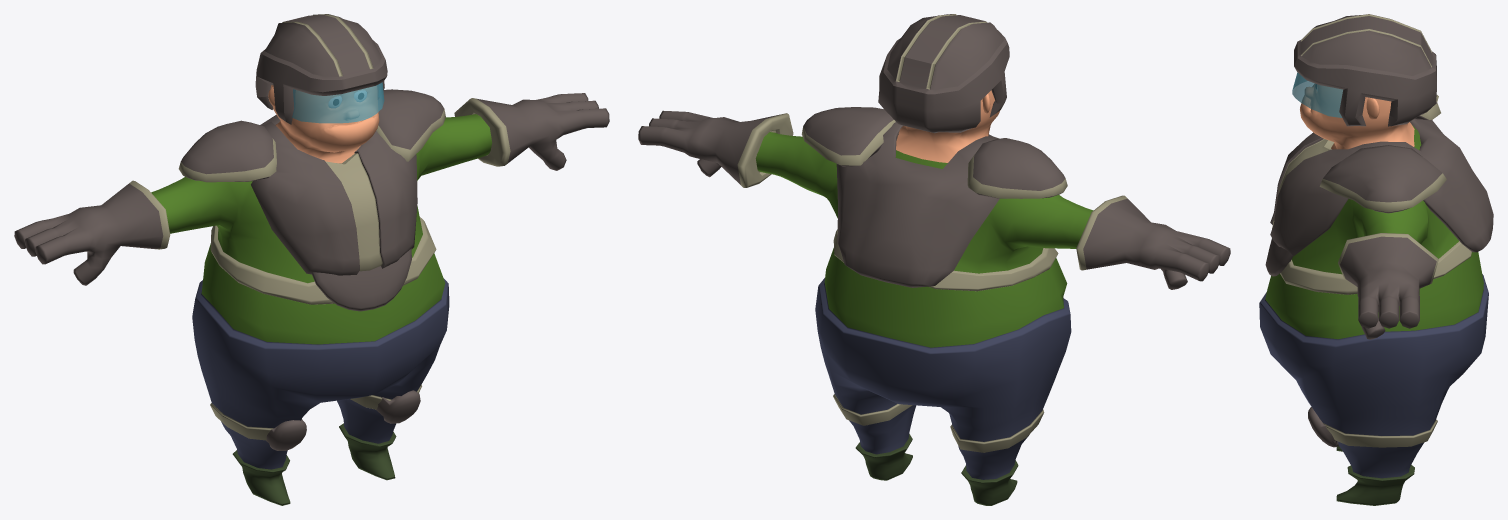
Rendered from bigBaddie.fbx.
3 renders of one model, left to right at view 1: azimuth 30°, elevation 25°; view 2: azimuth 150°, elevation 25°; view 3: azimuth 270°, elevation 25°, orthographic.
Visible parts, largest first — view 1: mainBody, chestPiece, helmet, R_shoulderPad, L_shoulderPad, chestPieceLower, helmetVisor, L_kneecap, R_kneecap; view 2: mainBody, chestPiece, helmet, R_shoulderPad, L_shoulderPad; view 3: mainBody, chestPiece, helmet, L_shoulderPad, helmetVisor, chestPieceLower, L_kneecap.
Part boxes in pixels (x1=…): mainBody: x1=14, y1=85, x2=609, y2=505; chestPiece: x1=251, y1=115, x2=417, y2=275; helmet: x1=255, y1=14, x2=387, y2=124; R_shoulderPad: x1=178, y1=120, x2=276, y2=182; L_shoulderPad: x1=376, y1=89, x2=445, y2=161; chestPieceLower: x1=312, y1=248, x2=411, y2=311; helmetVisor: x1=292, y1=82, x2=384, y2=123; L_kneecap: x1=376, y1=390, x2=420, y2=423; R_kneecap: x1=266, y1=419, x2=306, y2=450; mainBody: x1=638, y1=90, x2=1230, y2=505; chestPiece: x1=836, y1=122, x2=999, y2=287; helmet: x1=878, y1=14, x2=1009, y2=133; R_shoulderPad: x1=967, y1=138, x2=1067, y2=198; L_shoulderPad: x1=801, y1=107, x2=895, y2=166; mainBody: x1=1259, y1=84, x2=1488, y2=505; chestPiece: x1=1270, y1=119, x2=1493, y2=255; helmet: x1=1294, y1=14, x2=1436, y2=126; L_shoulderPad: x1=1319, y1=145, x2=1446, y2=213; helmetVisor: x1=1292, y1=72, x2=1342, y2=117; chestPieceLower: x1=1265, y1=238, x2=1293, y2=276; L_kneecap: x1=1308, y1=407, x2=1338, y2=447.
Size of the model in its own units: 2.11 by 1.62 by 0.7622.
